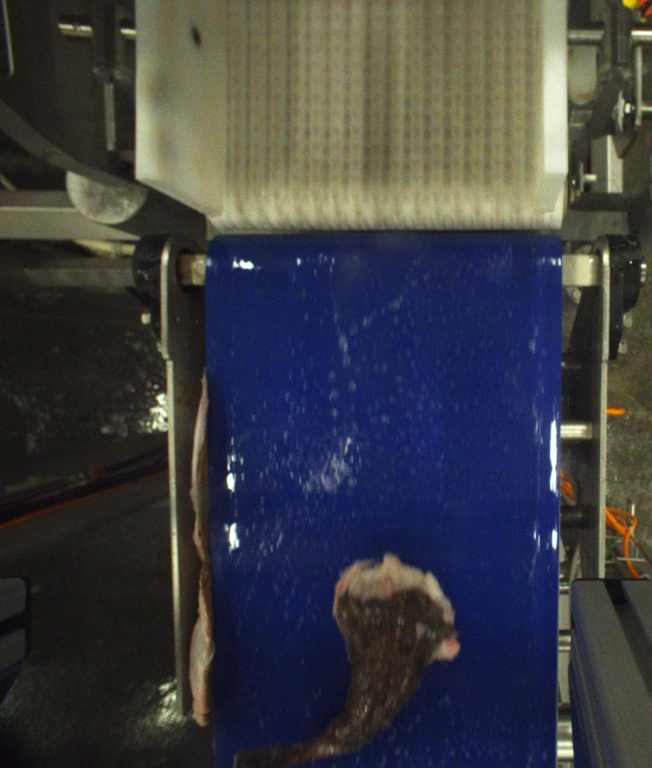ANF: (231, 555, 460, 768)
